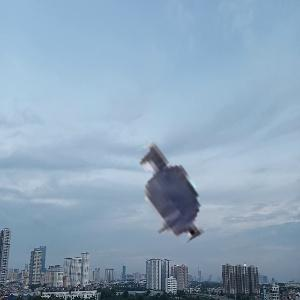drone: (94, 120, 253, 279)
